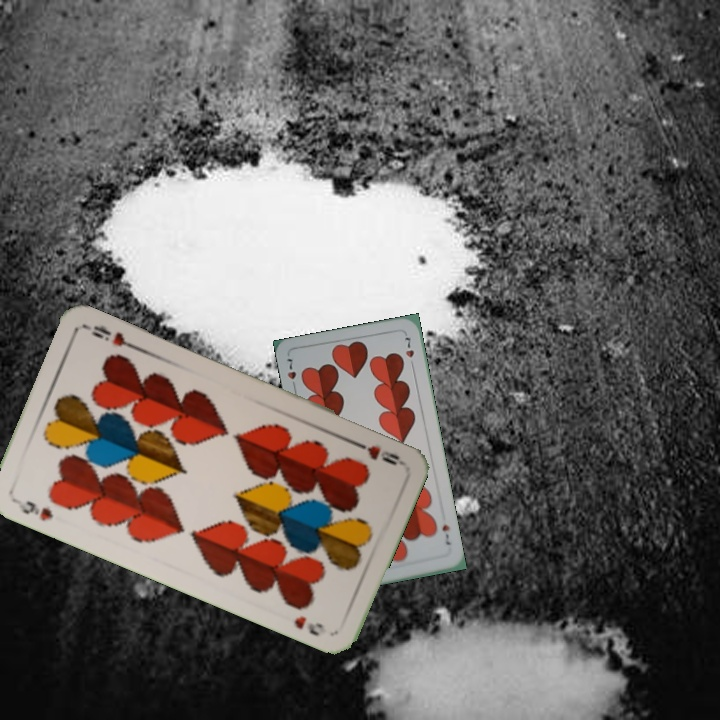H7: (283, 354, 299, 393), (438, 520, 453, 548)
H9: (348, 437, 405, 468), (9, 494, 56, 524)
